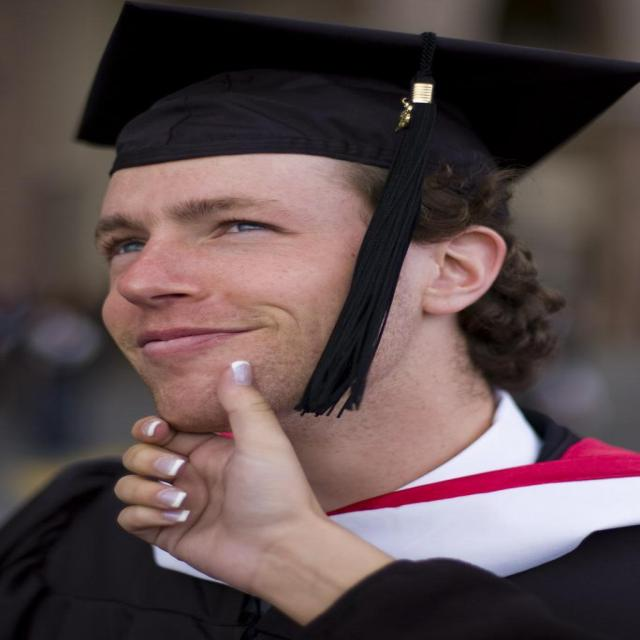no-glass: (102, 212, 295, 262)
